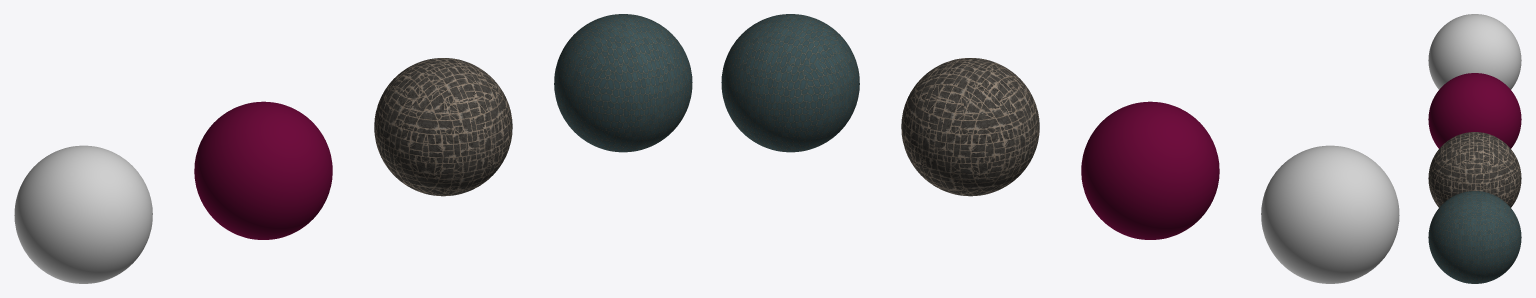
The model's file is materialsTestScene.gltf.
The picture shows the model from 3 angles, left to right: view 1: azimuth 30°, elevation 25°; view 2: azimuth 150°, elevation 25°; view 3: azimuth 270°, elevation 25°; orthographic projection. The views are drawn at different scales.
Parts seen in each view (by area): view 1: Sphere, Sphere.003, Sphere.001, Sphere.002; view 2: Sphere, Sphere.003, Sphere.001, Sphere.002; view 3: Sphere.003, Sphere.001, Sphere.002, Sphere.
Part boxes in pixels (x1=…): Sphere: x1=14, y1=145, x2=152, y2=283; Sphere.003: x1=554, y1=14, x2=692, y2=152; Sphere.001: x1=194, y1=101, x2=332, y2=239; Sphere.002: x1=374, y1=58, x2=512, y2=196; Sphere: x1=1261, y1=145, x2=1399, y2=283; Sphere.003: x1=721, y1=14, x2=859, y2=152; Sphere.001: x1=1081, y1=101, x2=1219, y2=239; Sphere.002: x1=901, y1=58, x2=1039, y2=196; Sphere.003: x1=1428, y1=191, x2=1521, y2=283; Sphere.001: x1=1428, y1=73, x2=1521, y2=148; Sphere.002: x1=1428, y1=132, x2=1521, y2=207; Sphere: x1=1428, y1=14, x2=1521, y2=89.
Size of the model in its own units: 11 by 2 by 2.
